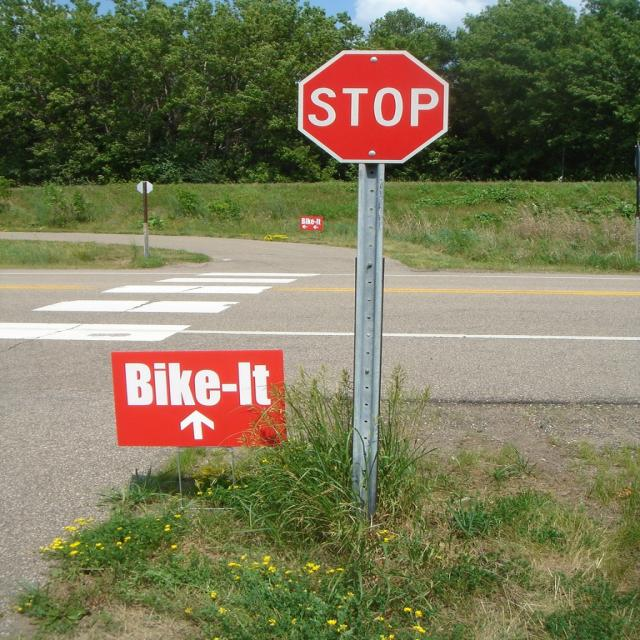Stop-sign: (298, 48, 449, 165)
